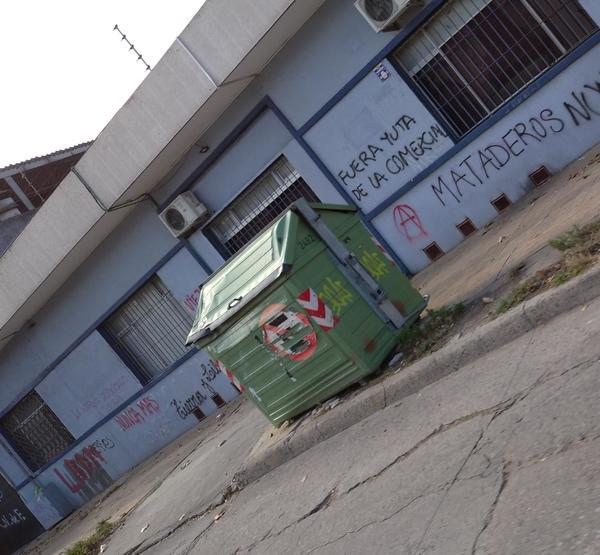Trash: (186, 198, 427, 426)
